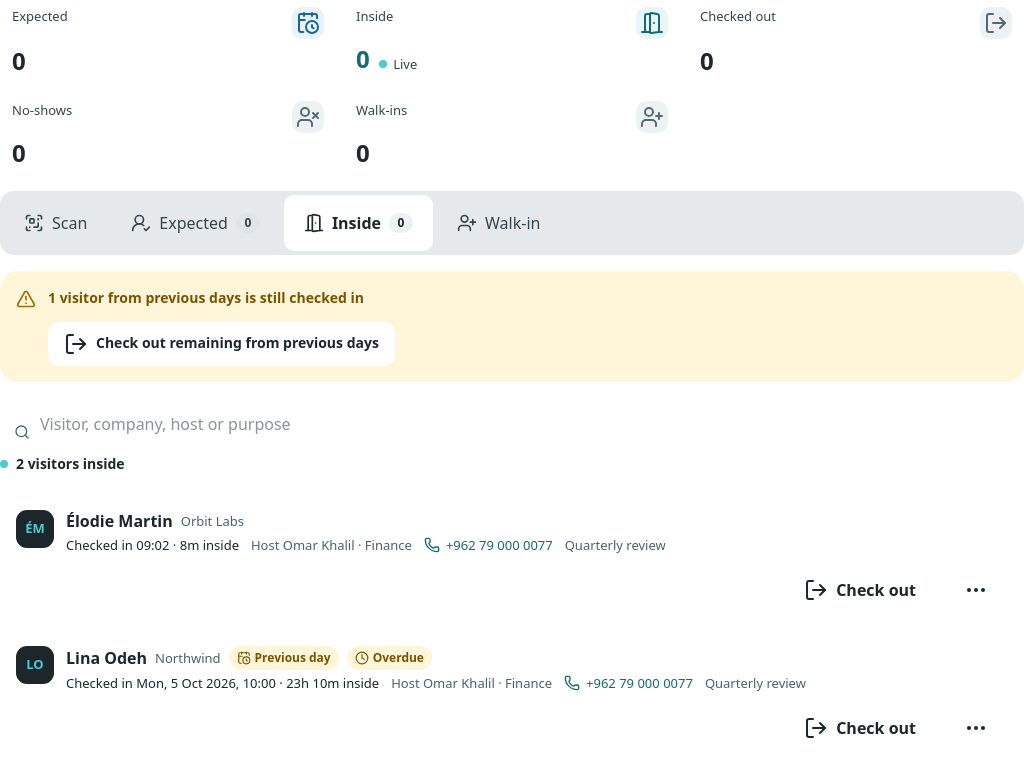
Test case: Inside tab › corrects the check-out time (CORRECTED) with a time and a required note
(page scrolled)
Expected: the text "2 visitors inside" is shown, [0,454,125,473]
Click the button named "More actions for Lina Odeh" at (976, 728), box [944,704,1008,752]
(page scrolled)
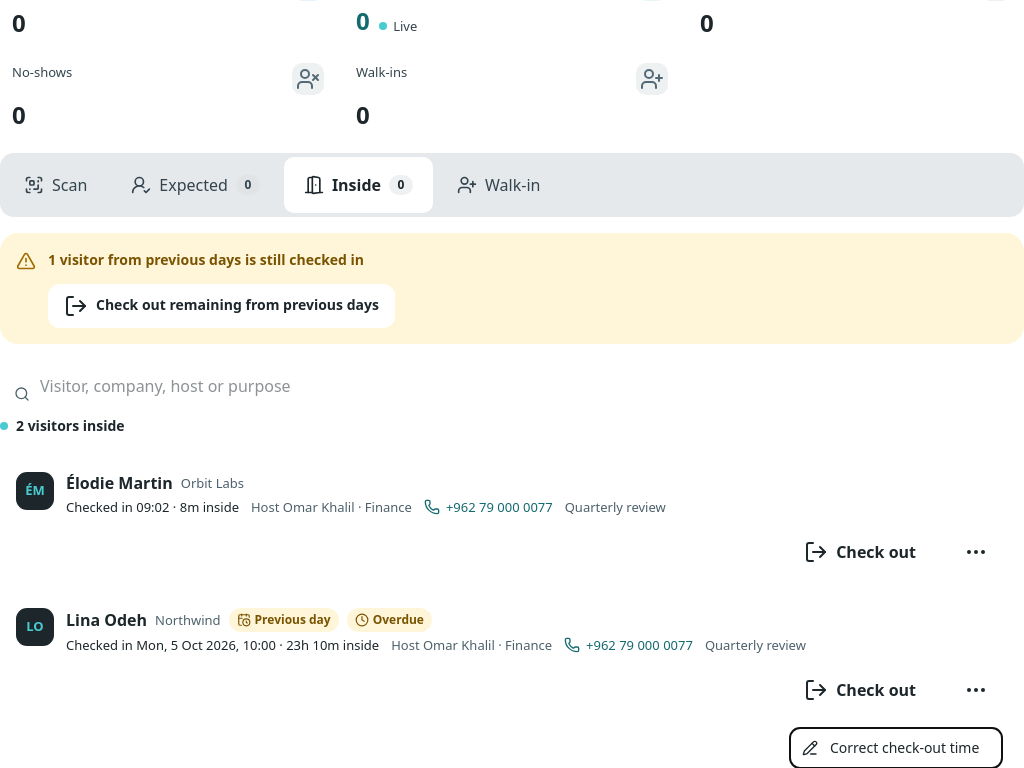
Click the menu item "Correct check-out time" at (896, 748), box [790,728,1002,767]
(page scrolled)
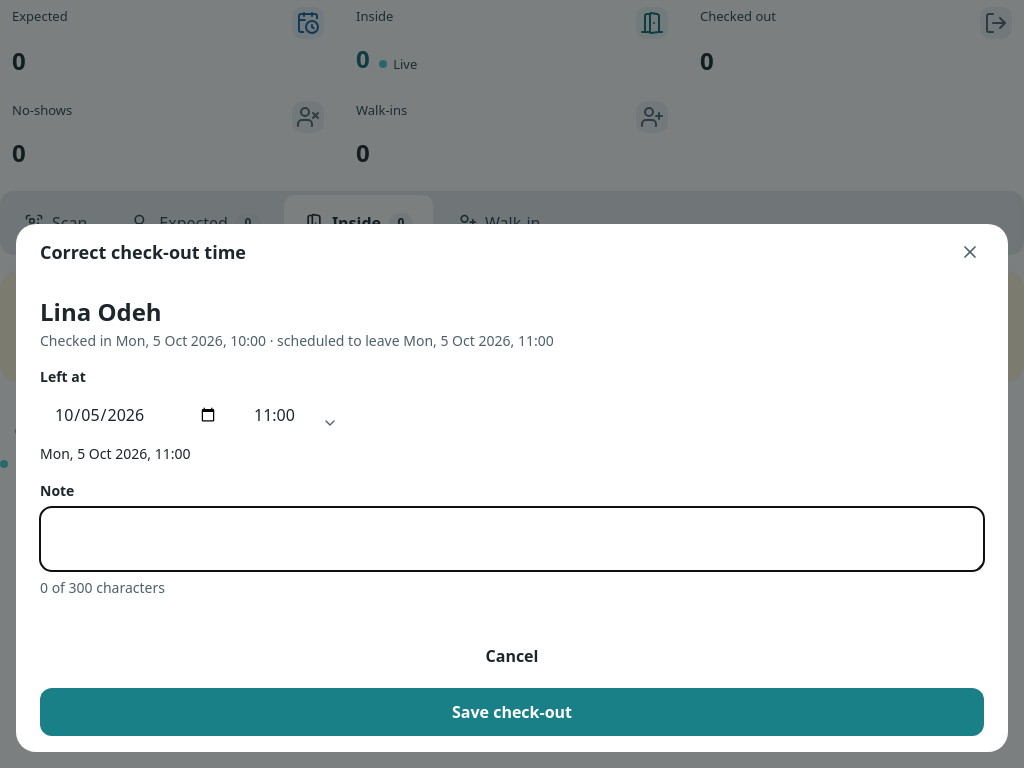
Expected: the date field named "Left at date" holds "2026-10-05", [40,392,232,436]
Expected: the dropdown named "Left at time" shows "11:00", [240,392,352,436]
Click the button "Save check-out" at (512, 712), box [40,688,984,736]
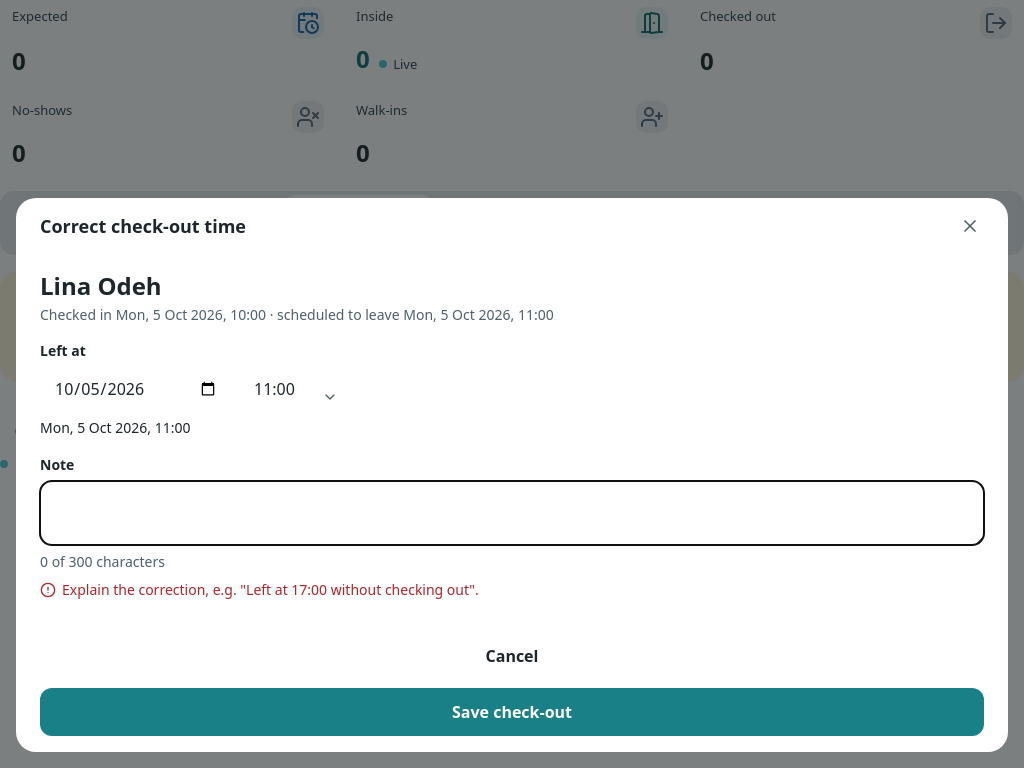
Expected: the text "Explain the correction" is shown, [62,580,479,599]
Select "12:30" in the dropdown named "Left at time" at (296, 388), box [240,366,352,410]
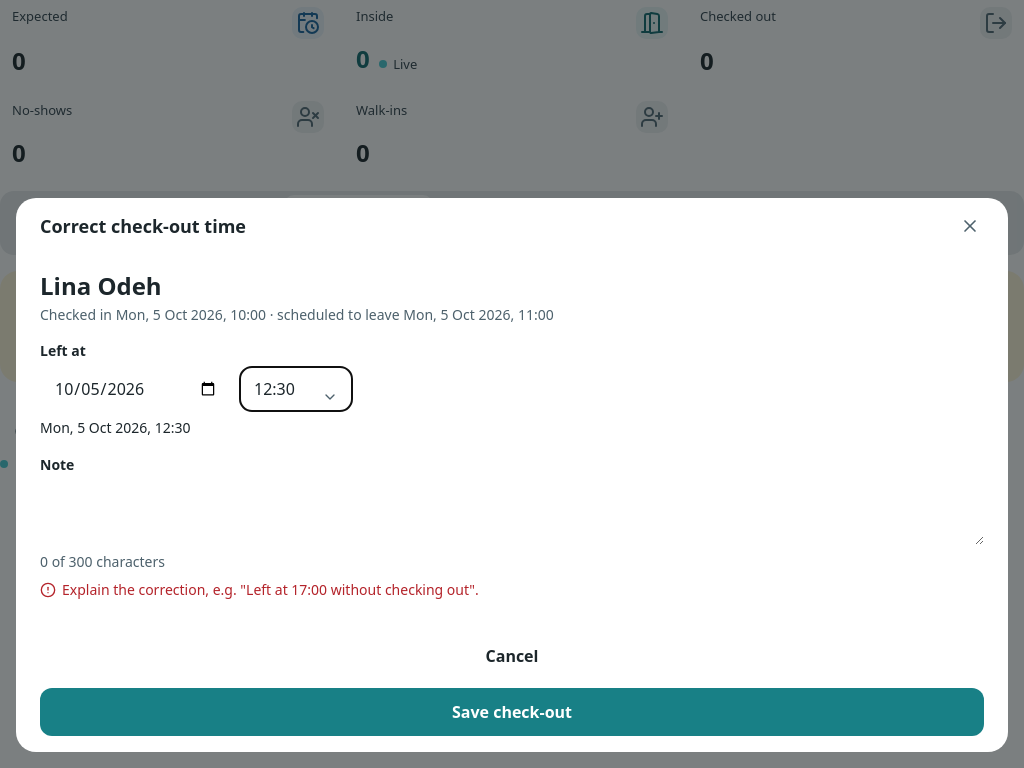
Type "Left without checking out" into the text box labelled "Note" at (512, 513), box [40,481,984,545]
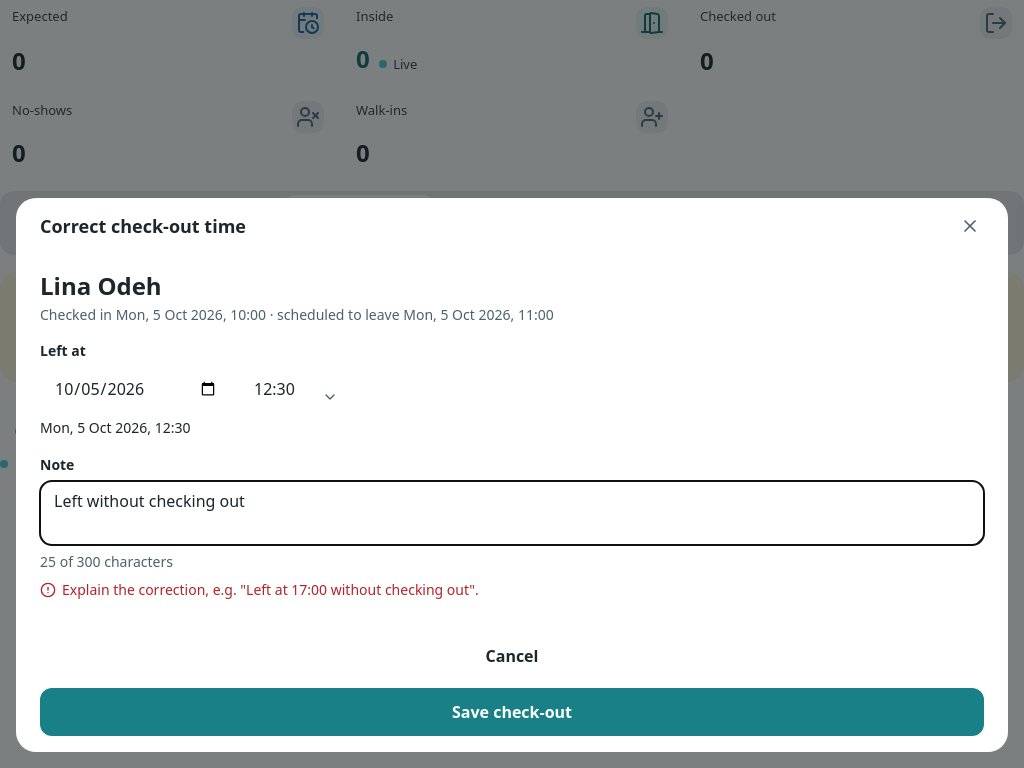
Click the button "Save check-out" at (512, 712), box [40,688,984,736]
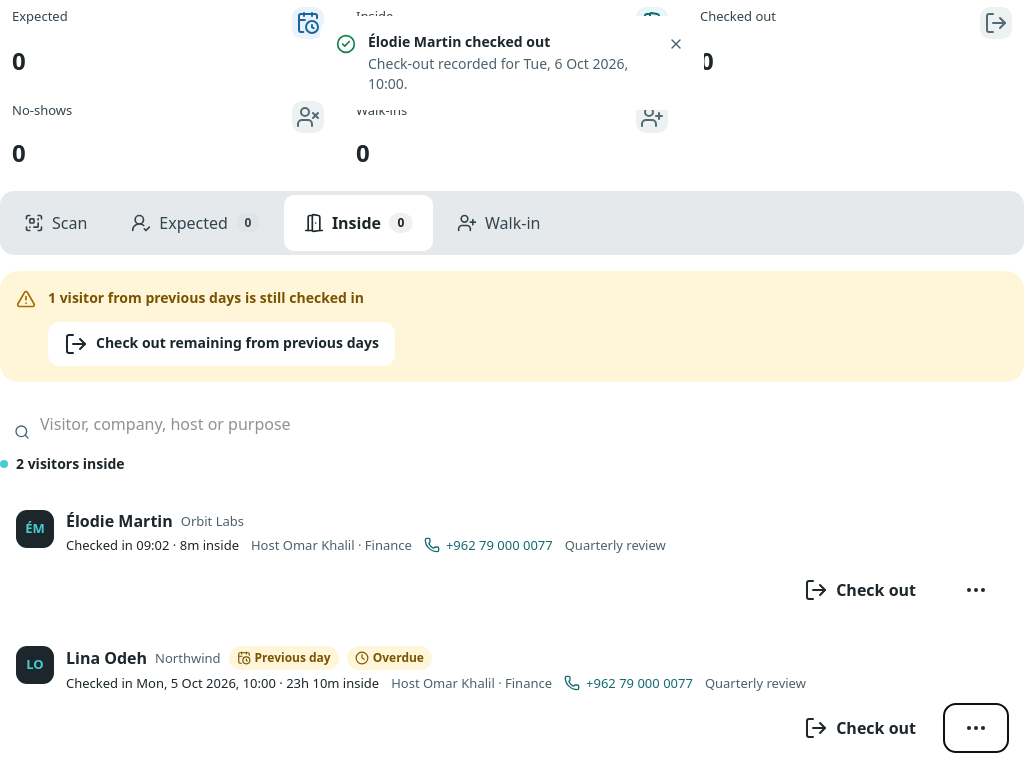
Expected: the dialog is gone
